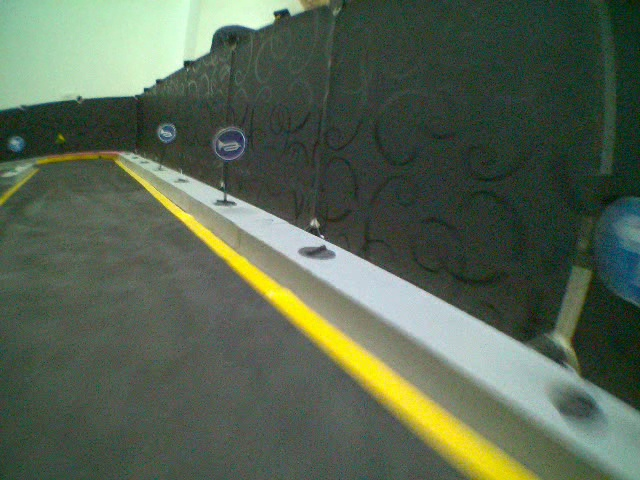horn: (211, 124, 247, 163), (157, 123, 177, 144)
